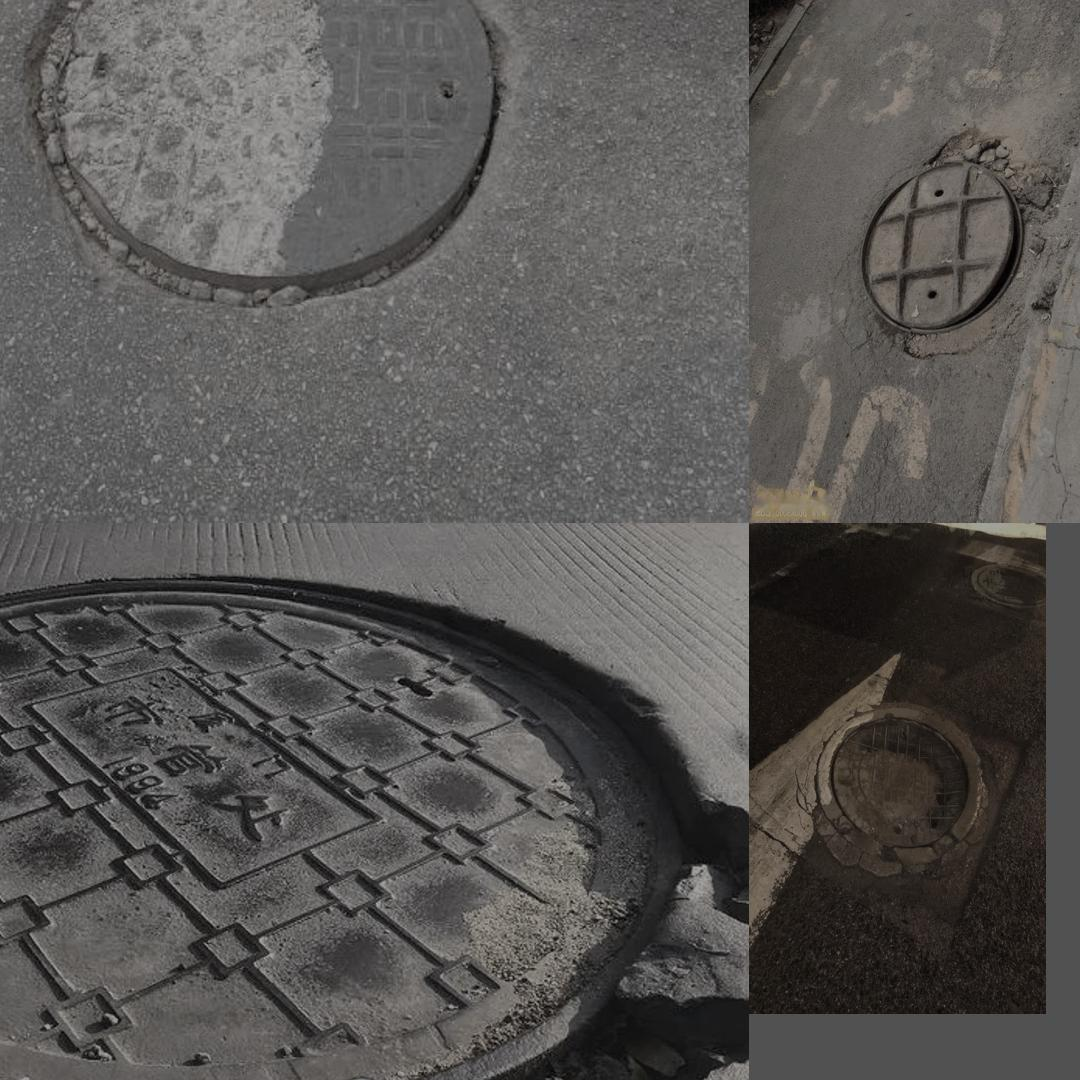circle: (0, 570, 727, 1080), (0, 0, 522, 316), (844, 107, 1080, 386), (770, 684, 1018, 921)
